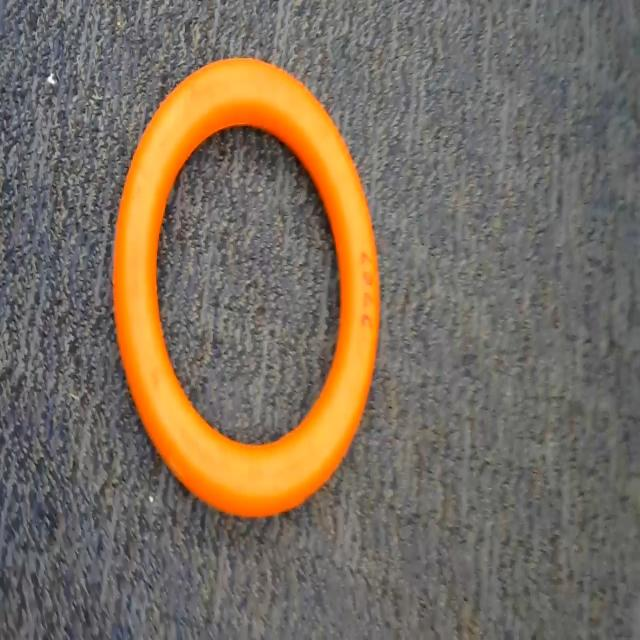note: (110, 50, 385, 532)
